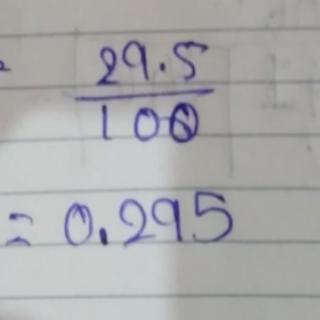.: (96, 224, 114, 247), (153, 58, 171, 76)
0: (63, 203, 93, 245), (169, 102, 200, 141), (133, 106, 158, 139)
1: (101, 104, 111, 141)
2: (117, 196, 156, 243), (97, 43, 118, 86)
5: (191, 191, 235, 245), (172, 37, 211, 81)
9: (154, 194, 186, 243), (118, 37, 151, 83)
